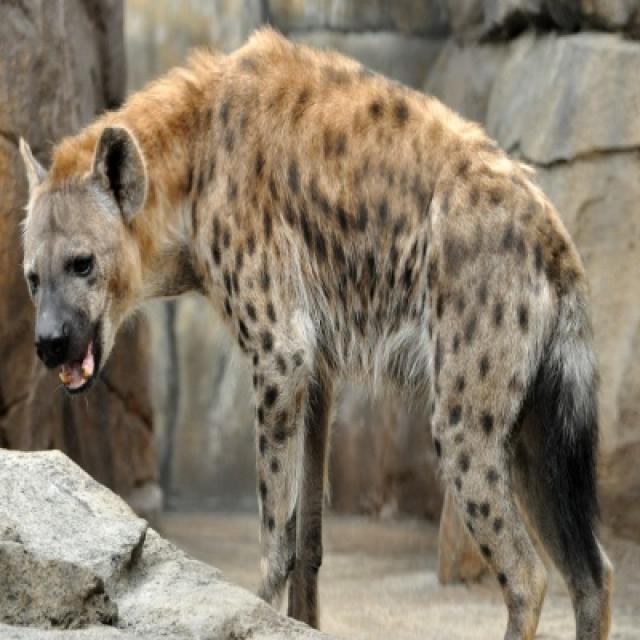hyena: (22, 29, 608, 638)
